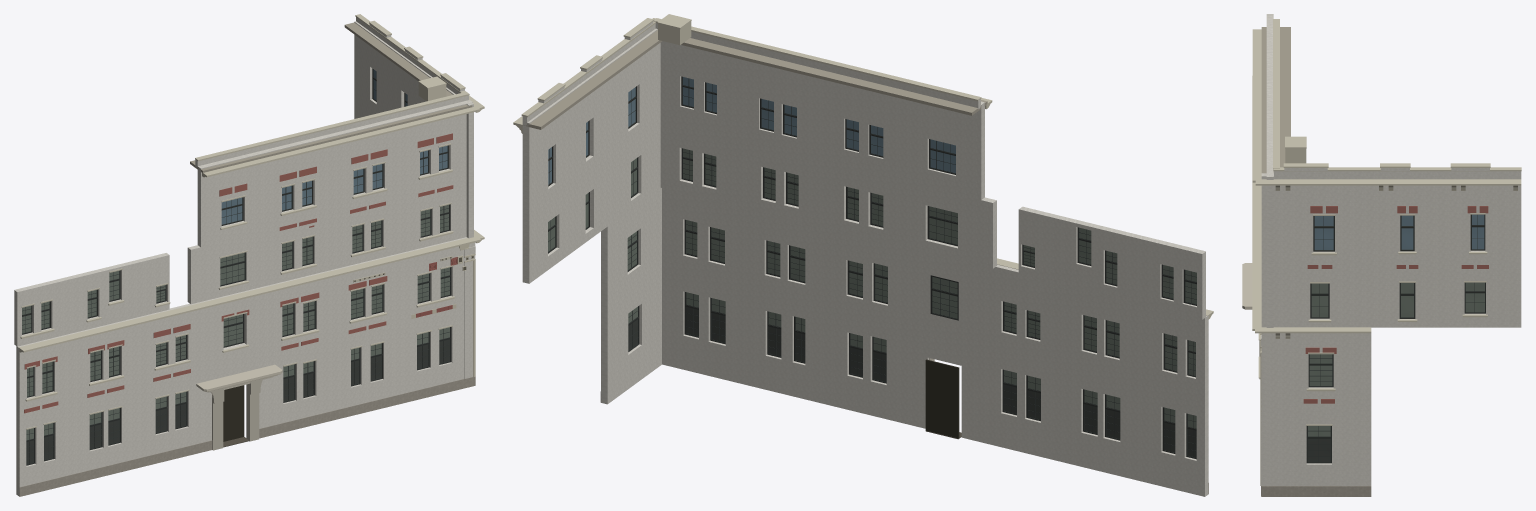
The model's file is jingan-postal-supply-office-jiaozhou-road-raw.glb.
The picture shows the model from 3 angles, left to right: view 1: azimuth 30°, elevation 25°; view 2: azimuth 150°, elevation 25°; view 3: azimuth 270°, elevation 25°; orthographic projection. The views are drawn at different scales.
Visible parts, largest first — view 1: 交通部邮政总局驻沪办事处胶州路西立面与南端檐窗; view 2: 交通部邮政总局驻沪办事处胶州路西立面与南端檐窗; view 3: 交通部邮政总局驻沪办事处胶州路西立面与南端檐窗.
Boxes of the visible parts, x1,y1,x2,y2 form: 交通部邮政总局驻沪办事处胶州路西立面与南端檐窗: (14, 14, 484, 496); 交通部邮政总局驻沪办事处胶州路西立面与南端檐窗: (513, 14, 1213, 496); 交通部邮政总局驻沪办事处胶州路西立面与南端檐窗: (1242, 14, 1521, 496).
Size of the model in its own units: 30.83 by 19.05 by 14.22.
Materials: 20 (5 with a texture image).
